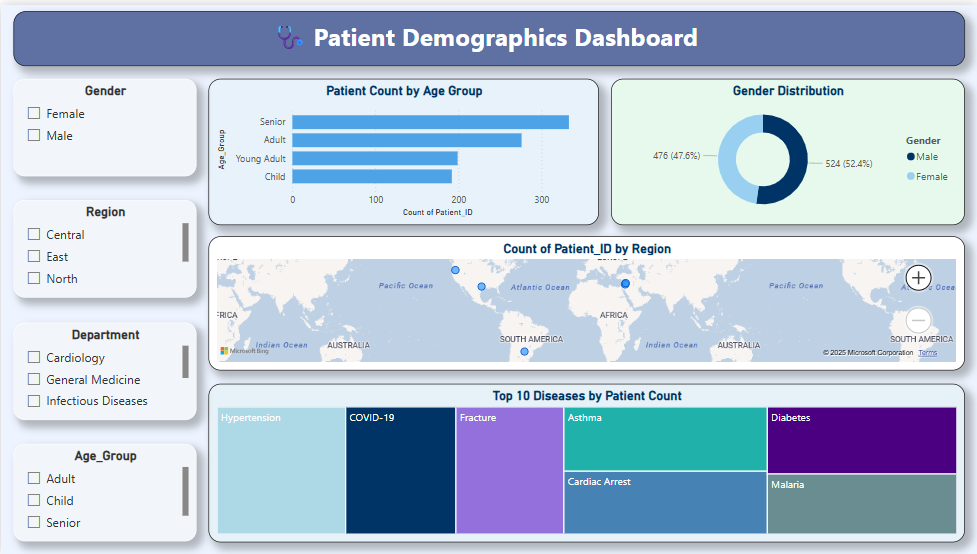

Layout of this report page (visuals, bound fields, positions):
{"tool":"powerbi","page":{"name":"Page 2","canvas":[1280,720],"ordinal":1},"visuals":[{"type":"textbox","box":[16,8,1248,72],"z":0},{"type":"barChart","title":"Patient Count by Age Group","fields":{"Category":["Sheet1.Age_Group"],"Y":["CountNonNull(Sheet1.Patient_ID)"]},"box":[272,96,512,192],"z":1000},{"type":"donutChart","title":"Gender Distribution","fields":{"Category":["Sheet1.Gender"],"Y":["CountNonNull(Sheet1.Patient_ID)"]},"box":[800,96,464,192],"z":2000},{"type":"treemap","title":"Top 10 Diseases by Patient Count","fields":{"Group":["Sheet1.Disease"],"Values":["CountNonNull(Sheet1.Patient_ID)"]},"box":[272,496,992,208],"z":3000},{"type":"slicer","title":"Gender","fields":{"Values":["Sheet1.Gender"]},"box":[16,96,240,128],"z":4000},{"type":"slicer","title":"Age_Group","fields":{"Values":["Sheet1.Age_Group"]},"box":[16,576,240,128],"z":5000},{"type":"slicer","title":"Department","fields":{"Values":["Sheet1.Department"]},"box":[16,416,240,128],"z":6000},{"type":"slicer","title":"Region","fields":{"Values":["Sheet1.Region"]},"box":[16,256,240,128],"z":7000},{"type":"map","fields":{"Category":["Sheet1.Region"],"Size":["CountNonNull(Sheet1.Patient_ID)"]},"box":[272,304,992,176],"z":8000}]}

Visuals, with their boxes in screenshot pixels (x1, y1, x2, y2), scaled from the page's 1280x720 canvas onto the 977x554 screenshot:
textbox: l=12, t=6, r=965, b=62
"Patient Count by Age Group" barChart: l=208, t=74, r=598, b=222
"Gender Distribution" donutChart: l=611, t=74, r=965, b=222
"Top 10 Diseases by Patient Count" treemap: l=208, t=382, r=965, b=542
"Gender" slicer: l=12, t=74, r=195, b=172
"Age_Group" slicer: l=12, t=443, r=195, b=542
"Department" slicer: l=12, t=320, r=195, b=419
"Region" slicer: l=12, t=197, r=195, b=295
map - Sheet1.Region x CountNonNull(Sheet1.Patient_ID): l=208, t=234, r=965, b=369
